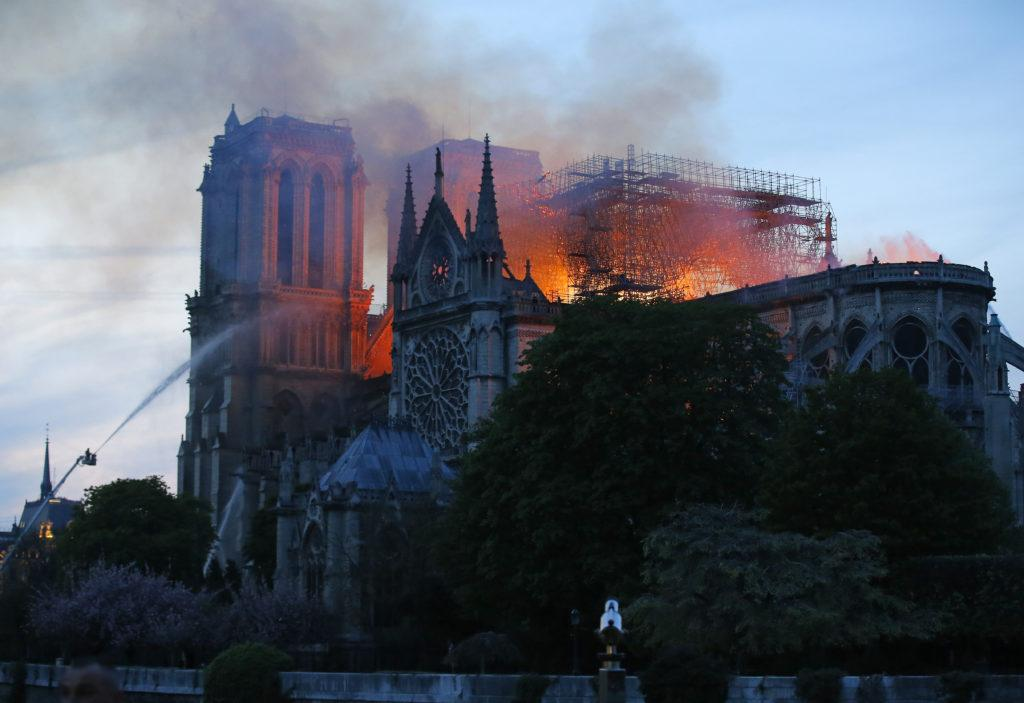Fire: (512, 241, 747, 305)
